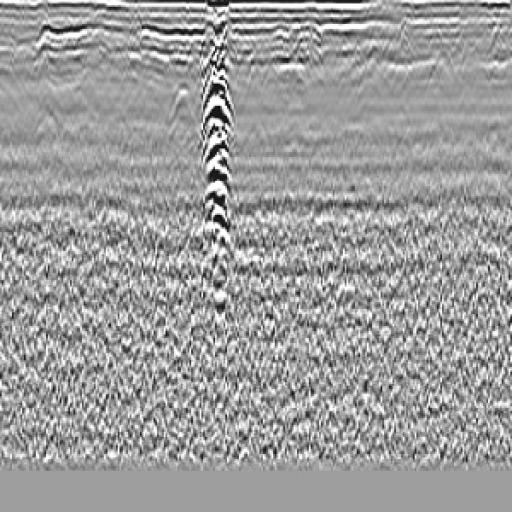metalic: (191, 24, 254, 311)
nonmetalic: (154, 73, 211, 147)
